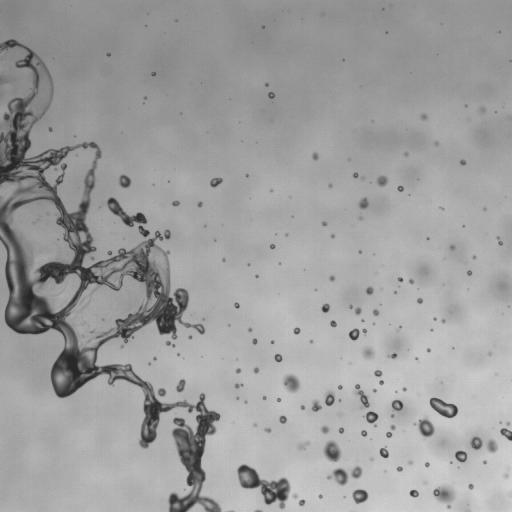droplet: (429, 397, 458, 418), (432, 485, 455, 508), (414, 417, 434, 437), (323, 440, 341, 461), (283, 374, 300, 392), (364, 411, 378, 427), (352, 489, 368, 503), (118, 174, 131, 187), (362, 346, 375, 359), (470, 436, 482, 449), (324, 391, 334, 406), (455, 450, 467, 462), (500, 428, 511, 441), (486, 439, 497, 452), (358, 197, 368, 209), (349, 328, 359, 340), (391, 400, 403, 410), (176, 379, 185, 392), (210, 178, 222, 187), (312, 399, 321, 411), (379, 446, 388, 458), (377, 176, 387, 186), (298, 441, 308, 449), (321, 303, 329, 312), (320, 426, 329, 433), (409, 490, 418, 497), (366, 286, 373, 294), (274, 354, 282, 361), (374, 370, 382, 377), (279, 415, 286, 423), (354, 307, 361, 314), (293, 327, 300, 334), (298, 499, 305, 506), (312, 152, 318, 160), (172, 200, 179, 206), (330, 320, 336, 327), (234, 383, 242, 388), (268, 92, 274, 98), (421, 114, 427, 120), (329, 275, 335, 281), (253, 367, 259, 373), (361, 430, 367, 436), (166, 341, 173, 346), (389, 353, 396, 358), (460, 160, 466, 165), (397, 186, 403, 191), (197, 201, 202, 207), (234, 302, 239, 308), (373, 309, 378, 315), (252, 338, 257, 344), (386, 432, 392, 437), (468, 483, 473, 489), (480, 107, 485, 112), (353, 172, 358, 177), (270, 244, 275, 249), (450, 245, 455, 250), (417, 298, 422, 303), (235, 368, 240, 373), (390, 425, 395, 430), (397, 466, 402, 471), (503, 473, 508, 478), (80, 321, 86, 325), (339, 427, 343, 433), (265, 428, 271, 432), (322, 221, 327, 225), (467, 270, 471, 275), (397, 277, 402, 281), (379, 380, 383, 385), (48, 127, 52, 131), (434, 141, 438, 145), (404, 152, 408, 156), (409, 279, 413, 283), (441, 319, 445, 323), (362, 329, 366, 333), (338, 385, 342, 389), (402, 387, 406, 391), (300, 405, 304, 409), (425, 462, 429, 466), (293, 494, 297, 498), (318, 494, 322, 498), (151, 72, 155, 75), (427, 348, 430, 352), (373, 388, 376, 392), (277, 398, 281, 401), (409, 460, 412, 464), (35, 219, 38, 222), (331, 234, 334, 237), (91, 256, 94, 259), (473, 256, 476, 259), (222, 258, 225, 261), (349, 305, 352, 308), (102, 318, 105, 321), (398, 326, 401, 329), (248, 328, 251, 331), (188, 335, 191, 338), (310, 340, 313, 343), (153, 357, 156, 360), (263, 396, 266, 399), (506, 422, 509, 425), (483, 460, 486, 463), (329, 184, 331, 187), (440, 207, 443, 209), (359, 217, 362, 219), (255, 275, 258, 277), (271, 340, 273, 343), (488, 353, 491, 355), (391, 414, 393, 417), (107, 53, 109, 55), (12, 78, 14, 80), (47, 212, 49, 214), (434, 318, 436, 320)
ligament: (0, 40, 221, 511), (238, 464, 290, 508), (327, 466, 362, 485), (353, 384, 369, 408), (0, 75, 9, 93), (80, 301, 89, 311), (496, 236, 502, 245), (254, 509, 261, 511), (228, 510, 233, 511), (466, 510, 470, 511), (510, 493, 511, 496)
